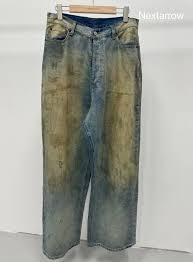earth: (107, 73, 132, 176), (48, 77, 70, 183)
